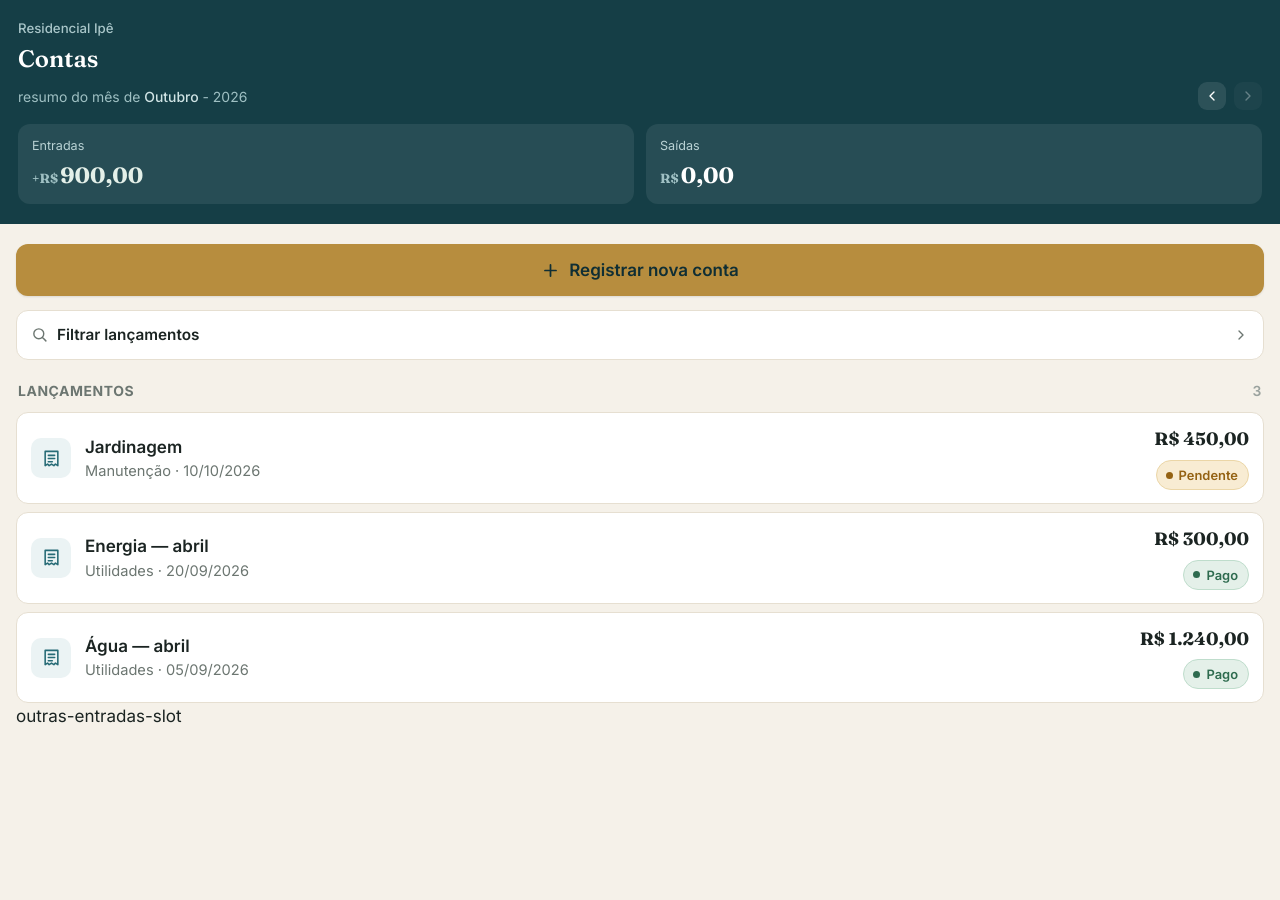
Scenario: AccountsScreen › clicking the previous-month arrow recomputes the cards, and next returns
Expected: the text "Água — abril" is shown, [85,636,190,656]
Click the button named "Mês anterior" at (1212, 96), box [1198,82,1226,110]
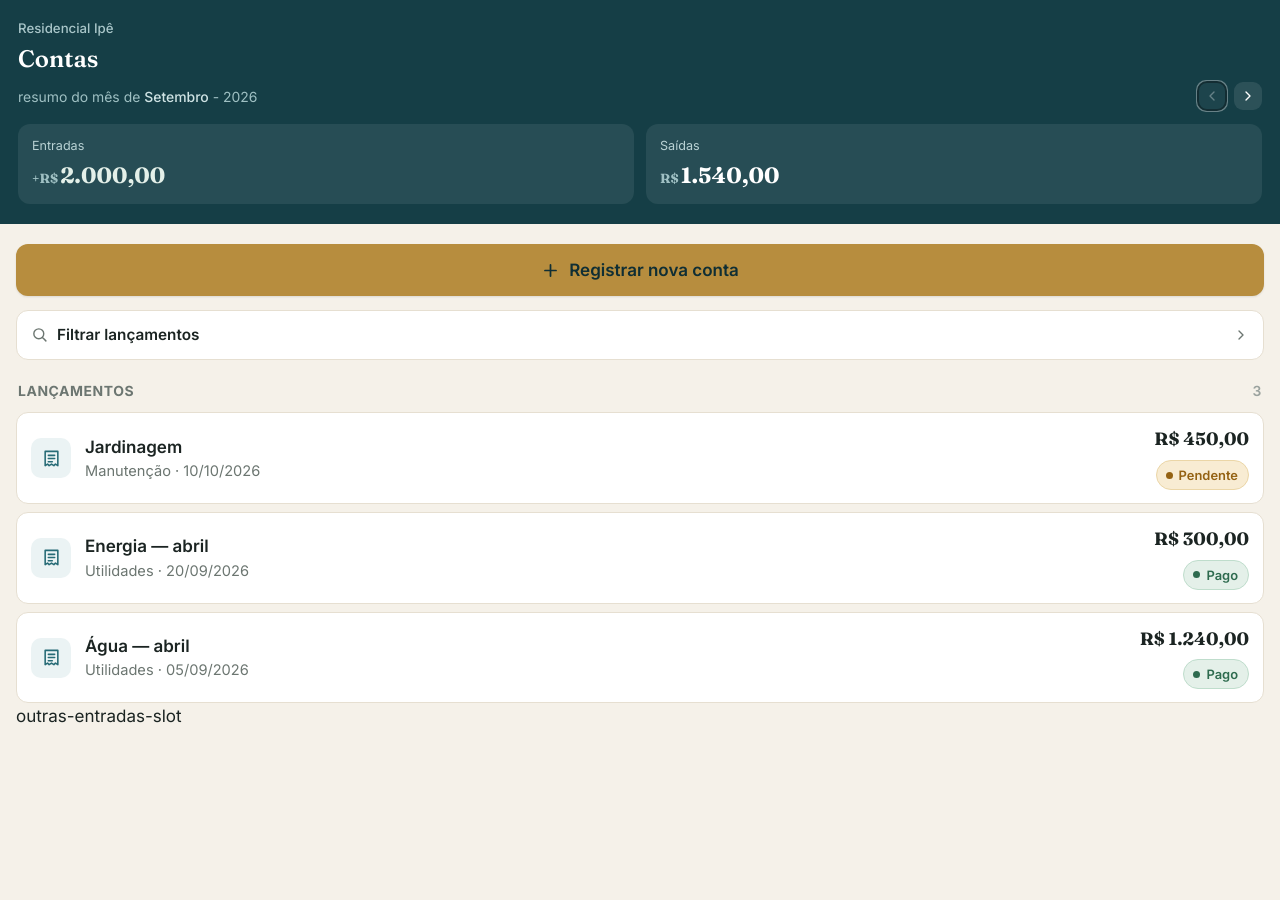
Result: the text "setembro" is shown at [144,88,209,105]
Result: the text "2.000,00" is shown at [60,161,165,189]
Result: the text "1.540,00" is shown at [681,161,780,189]
Click the button named "Próximo mês" at (1248, 96), box [1234,82,1262,110]
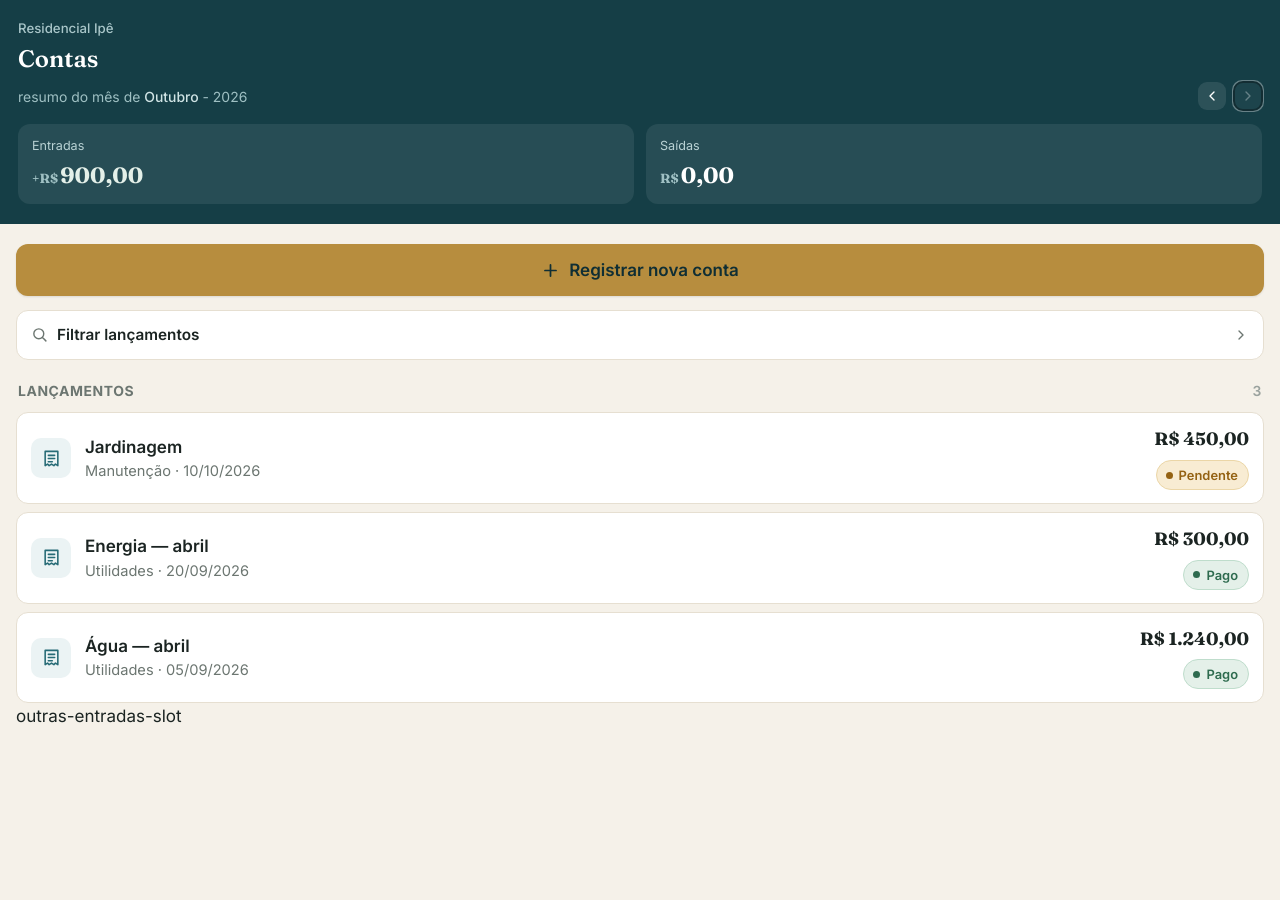
Expected: the text "0,00" is shown, [681,161,734,189]
Result: the text "outubro" is shown at [144,88,199,105]
Result: the text "900,00" is shown at [60,161,143,189]
